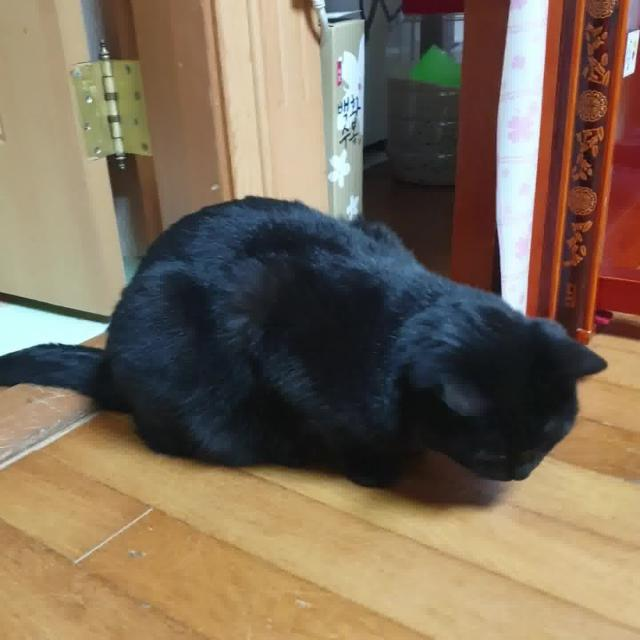cat: (0, 192, 614, 491)
